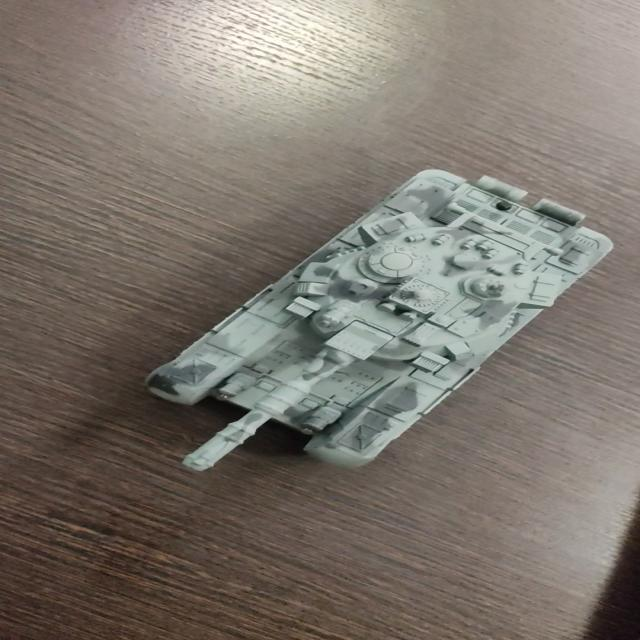tank: (132, 160, 628, 479)
